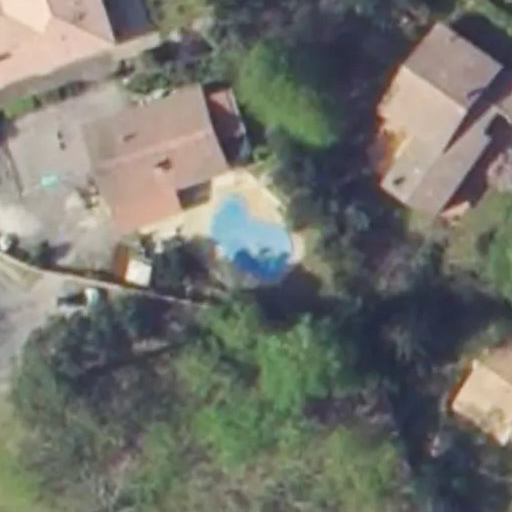pool: (201, 222, 312, 257)
